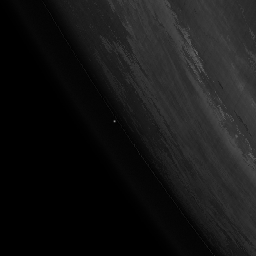Target: (111, 118, 116, 123)
